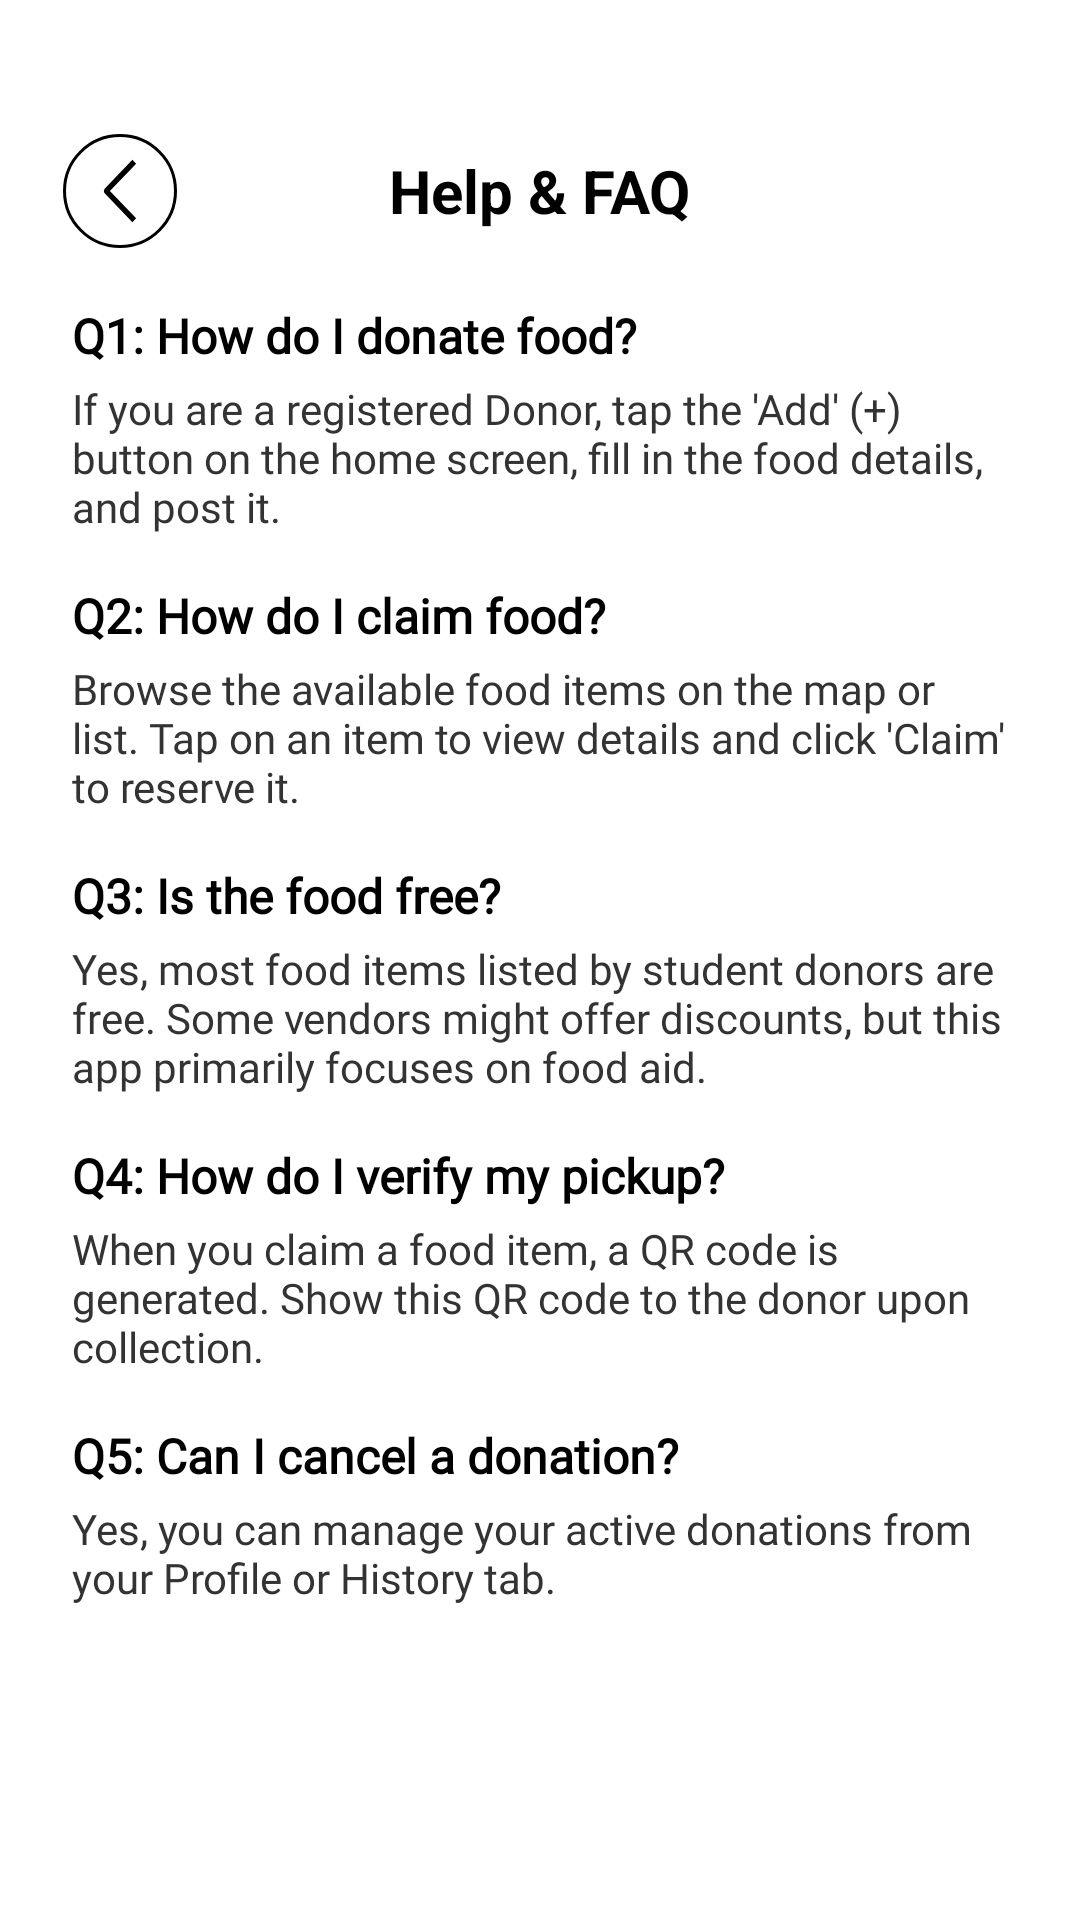

Point at icon controls on the screen. Image size 1080w x 1920h, points as (x,y).
Back: (120,191)
